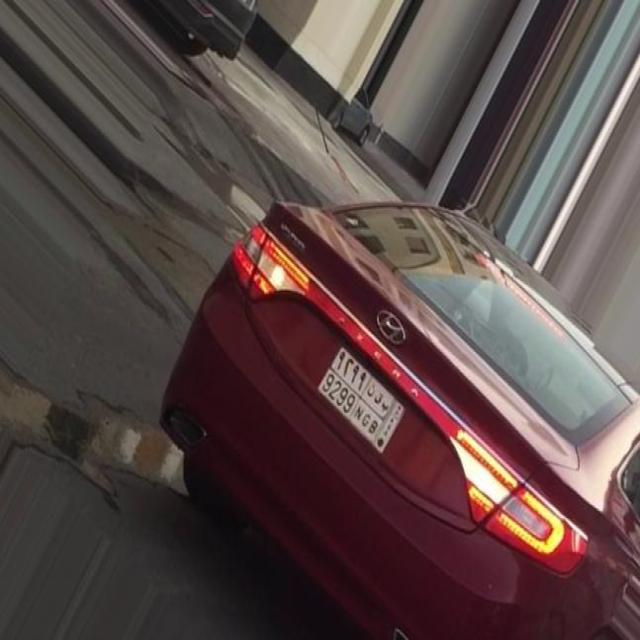Car-plate: (304, 330, 417, 473)
